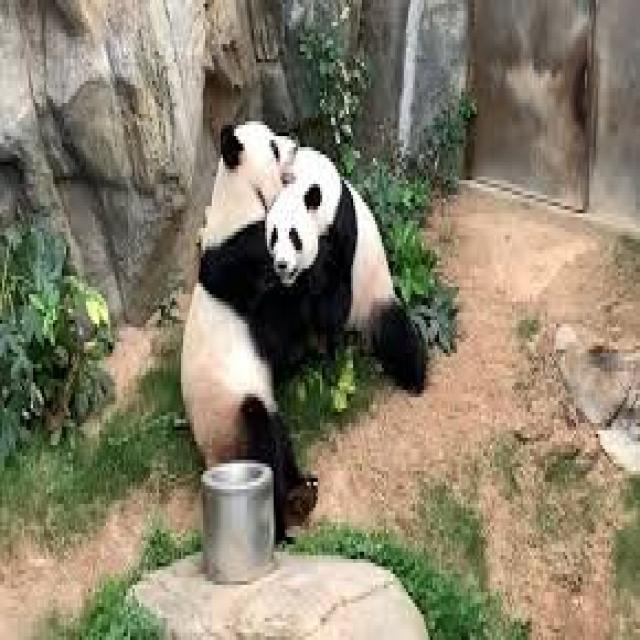Panda: (176, 118, 300, 516), (266, 158, 424, 385)
